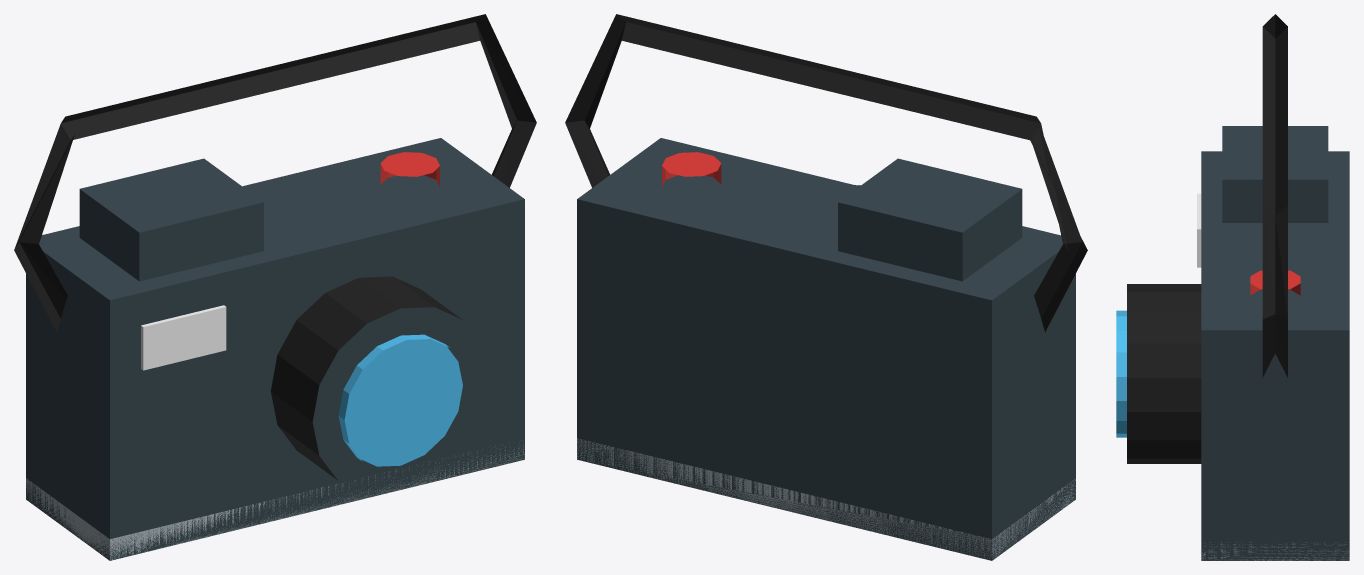
Rendered from kamera.glb.
3 renders of one model, left to right at view 1: azimuth 30°, elevation 25°; view 2: azimuth 150°, elevation 25°; view 3: azimuth 270°, elevation 25°, orthographic. The views are drawn at different scales.
Visible parts, largest first — view 1: kamera; view 2: kamera; view 3: kamera.
Boxes of the visible parts, x1=… form: kamera: x1=14, y1=14, x2=536, y2=560; kamera: x1=565, y1=14, x2=1087, y2=560; kamera: x1=1116, y1=14, x2=1349, y2=560.
Bounding box in the file's own units: 0.504 × 0.3817 × 0.22.
